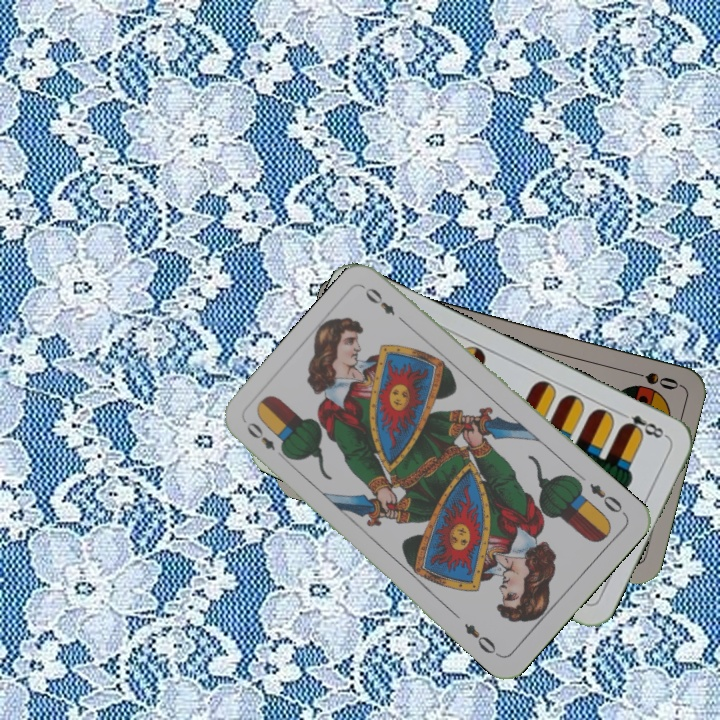E8: (615, 407, 670, 441)
EO: (242, 418, 290, 462), (585, 479, 629, 518)
SO: (623, 366, 681, 393)
